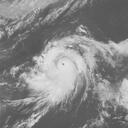cyclone: (19, 34, 106, 107)
